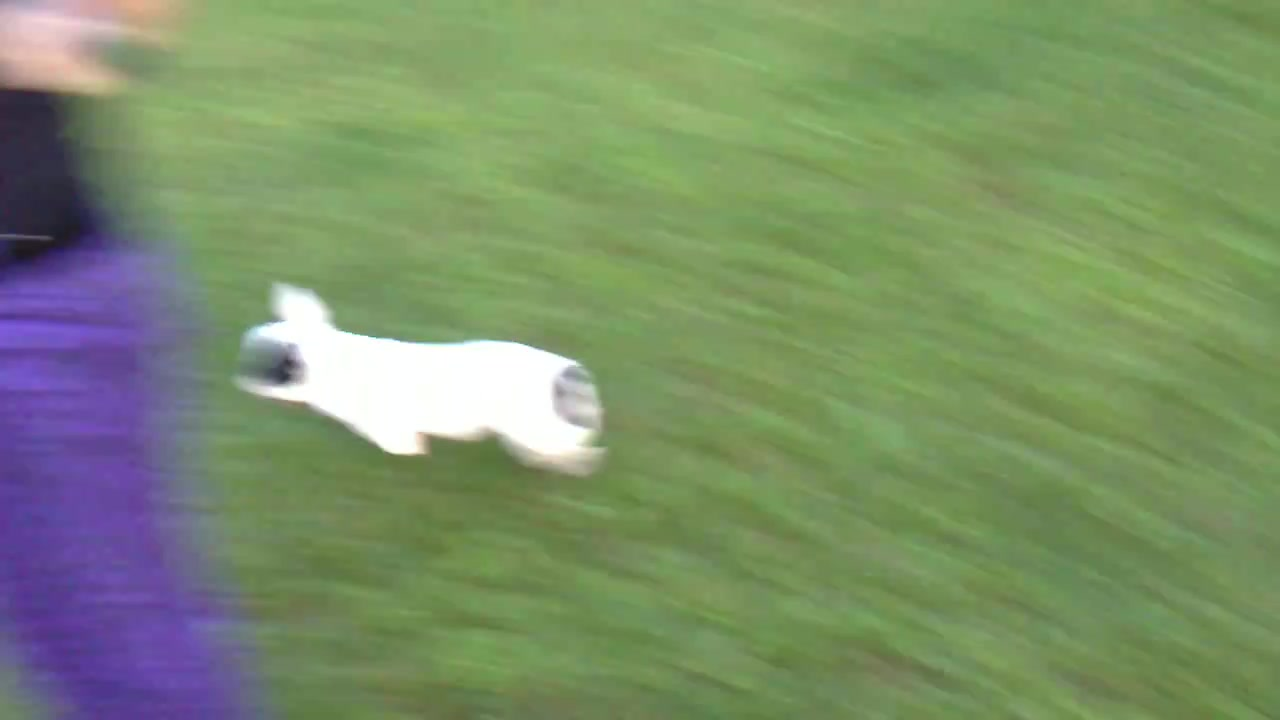dog: (236, 282, 605, 480)
